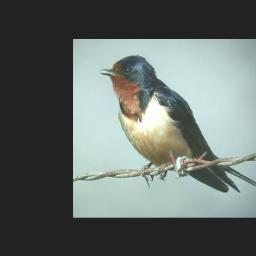Swallow: (100, 54, 256, 193)
